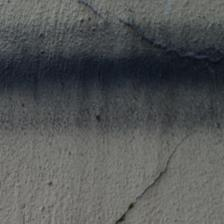Crack: (74, 55, 125, 165), (0, 0, 70, 58), (1, 84, 46, 100)
